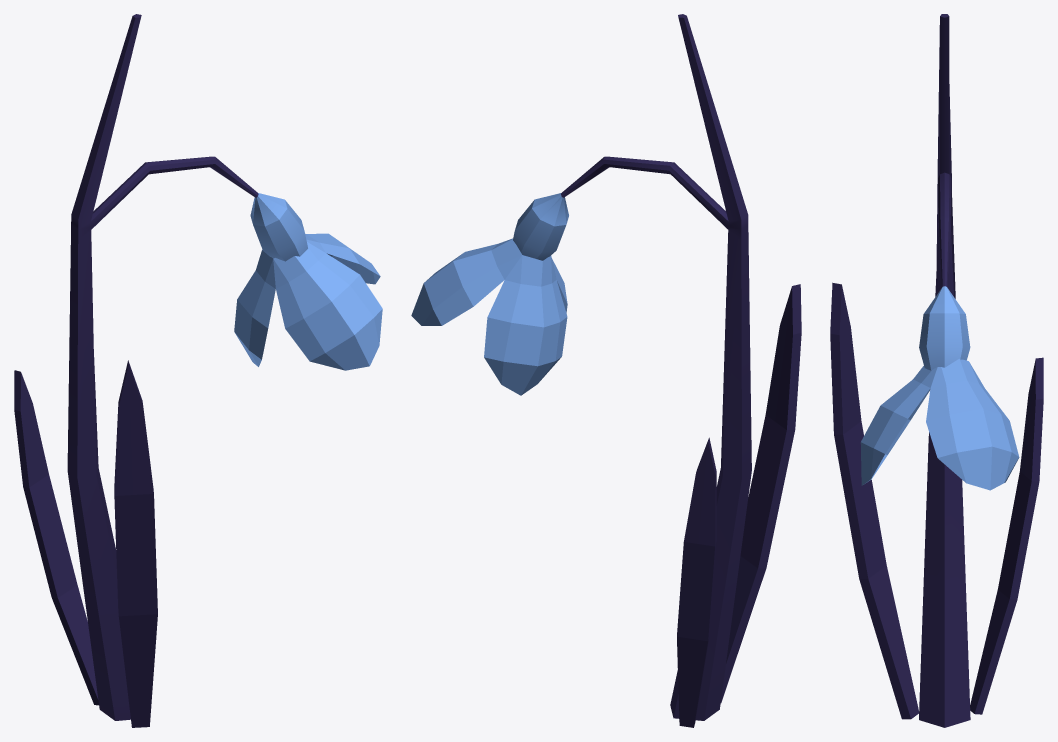
Rendered from Snow_Drop_Flower.fbx.
3 renders of one model, left to right at view 1: azimuth 30°, elevation 25°; view 2: azimuth 150°, elevation 25°; view 3: azimuth 270°, elevation 25°, orthographic. The views are drawn at different scales.
Visible parts, largest first — view 1: Snow_Drop_Flower; view 2: Snow_Drop_Flower; view 3: Snow_Drop_Flower.
Part boxes in pixels (bbox=[...]): Snow_Drop_Flower: bbox=[14, 14, 382, 727]; Snow_Drop_Flower: bbox=[411, 14, 801, 727]; Snow_Drop_Flower: bbox=[830, 14, 1043, 727].
Bounding box in the file's own units: 7.87 × 15.97 × 4.36.
